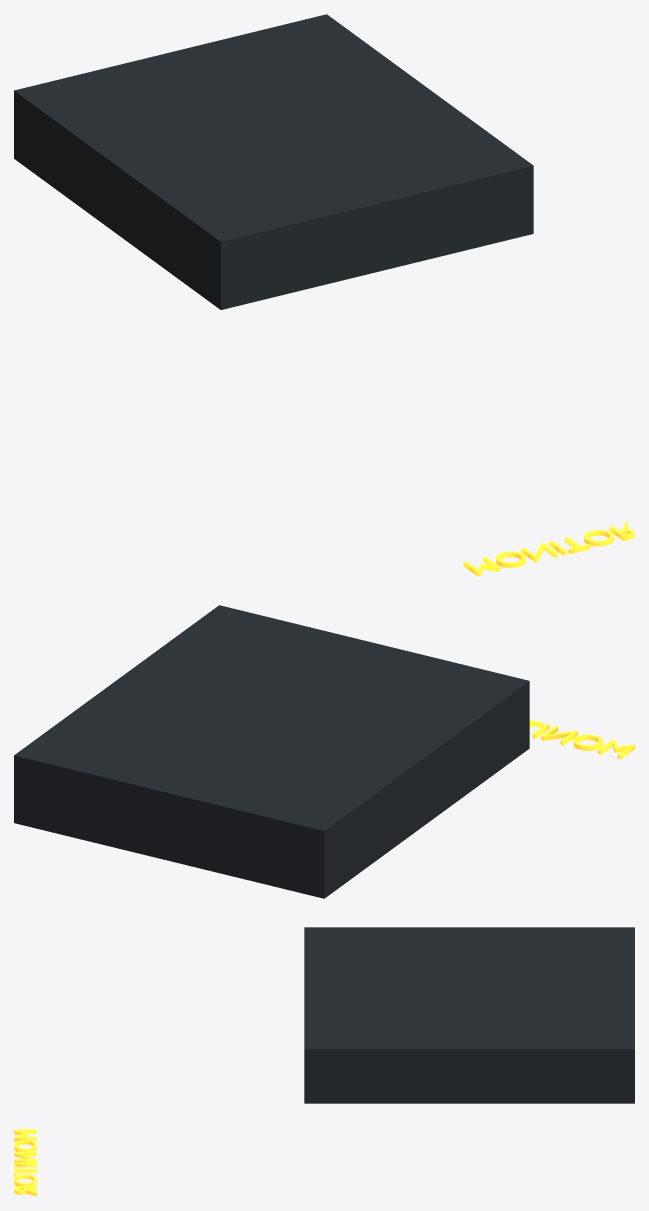
Rendered from MONITOR.glb.
3 renders of one model, top to bottom at view 1: azimuth 30°, elevation 25°; view 2: azimuth 150°, elevation 25°; view 3: azimuth 270°, elevation 25°, orthographic. The views are drawn at different scales.
Parts seen in each view (by area): view 1: MONITOR, LABEL_MONITOR; view 2: MONITOR, LABEL_MONITOR; view 3: MONITOR, LABEL_MONITOR.
Boxes of the visible parts, <box> form: MONITOR: <box>14,14,533,309</box>; LABEL_MONITOR: <box>463,522,634,576</box>; MONITOR: <box>14,605,529,898</box>; LABEL_MONITOR: <box>529,719,634,759</box>; MONITOR: <box>304,927,634,1103</box>; LABEL_MONITOR: <box>14,1129,36,1196</box>.
Size of the model in its own units: 0.48 by 0.323 by 1.03.
